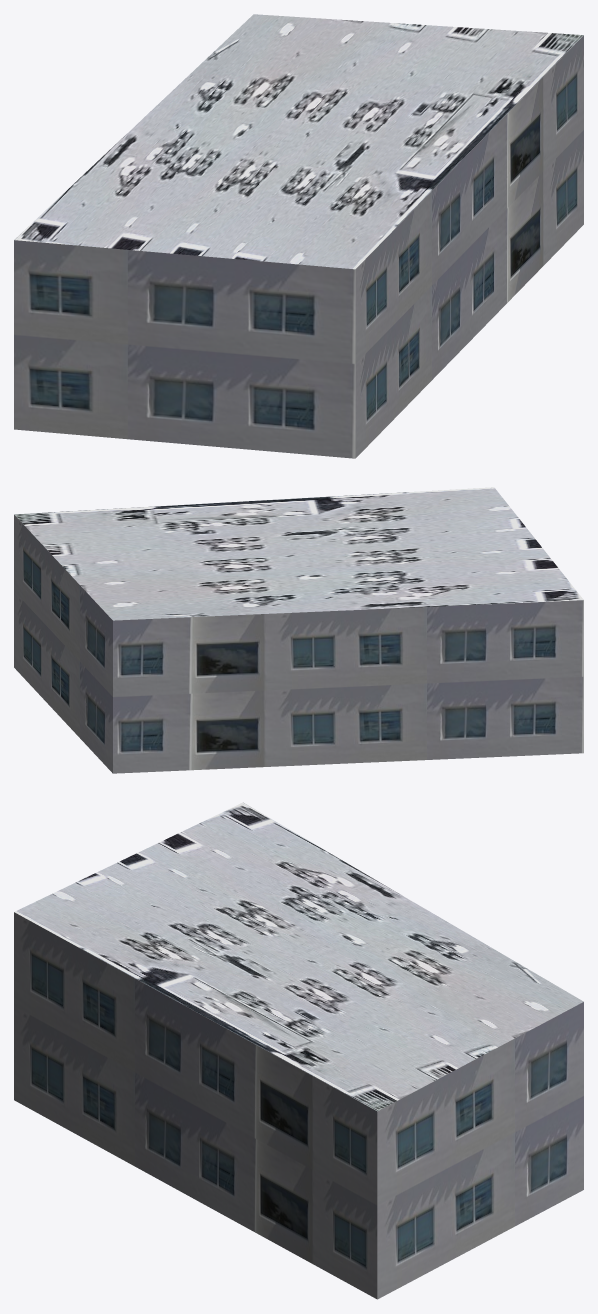
Rendered from ResTex__4836.fbx.
The picture shows the model from 3 angles, top to bottom: view 1: azimuth 30°, elevation 25°; view 2: azimuth 150°, elevation 25°; view 3: azimuth 270°, elevation 25°; orthographic projection. The views are drawn at different scales.
Parts seen in each view (by area): view 1: CityEngineMaterial_10_m, CityEngineMaterial_m; view 2: CityEngineMaterial_10_m, CityEngineMaterial_m; view 3: CityEngineMaterial_10_m, CityEngineMaterial_m.
Boxes of the visible parts, box(x1,y1,x2,y2) form: CityEngineMaterial_10_m: box(14, 35, 583, 458); CityEngineMaterial_m: box(14, 14, 583, 269); CityEngineMaterial_10_m: box(14, 515, 583, 773); CityEngineMaterial_m: box(14, 487, 583, 620); CityEngineMaterial_10_m: box(14, 912, 583, 1299); CityEngineMaterial_m: box(14, 802, 583, 1111).
Bounding box in the file's own units: 21.14 × 6 × 16.47.
2 materials, 2 textured.
